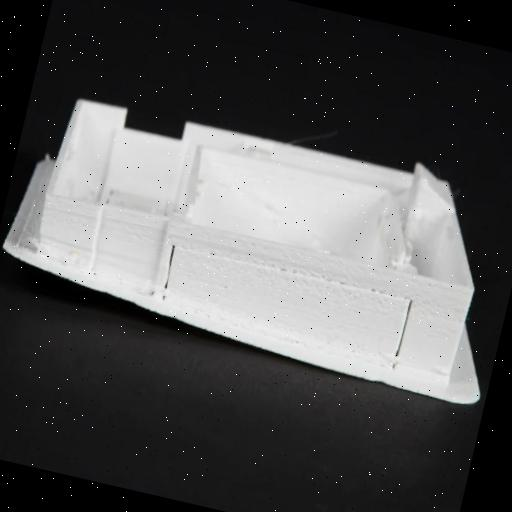cracks: (385, 289, 417, 376), (150, 236, 185, 307)
